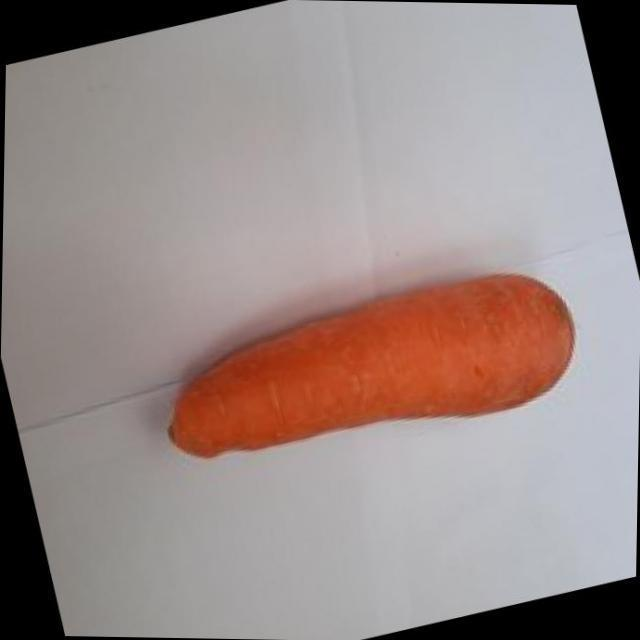Carrot: (170, 275, 574, 457)
